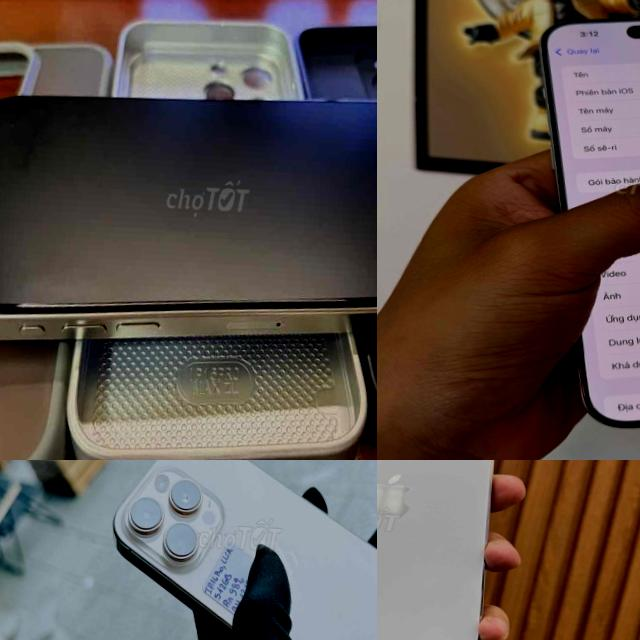gen_14: (377, 460, 507, 640)
gen_15: (0, 75, 377, 383), (515, 0, 640, 459)
gen_16: (91, 460, 377, 640)
